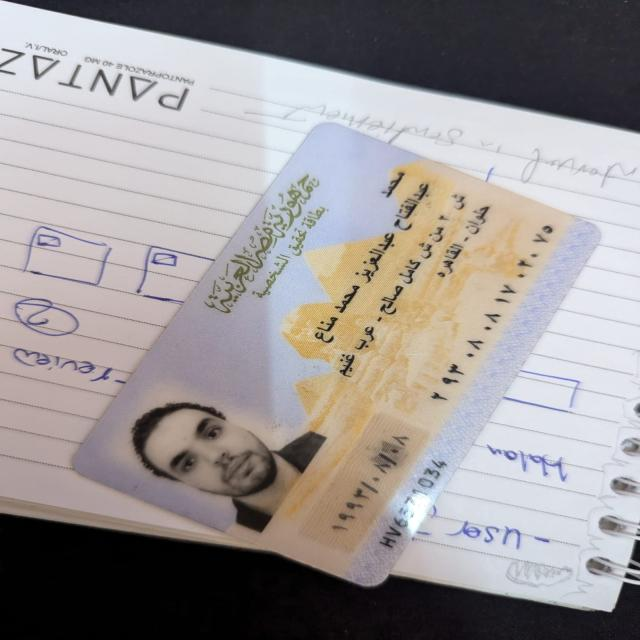id_card: (53, 106, 616, 600)
